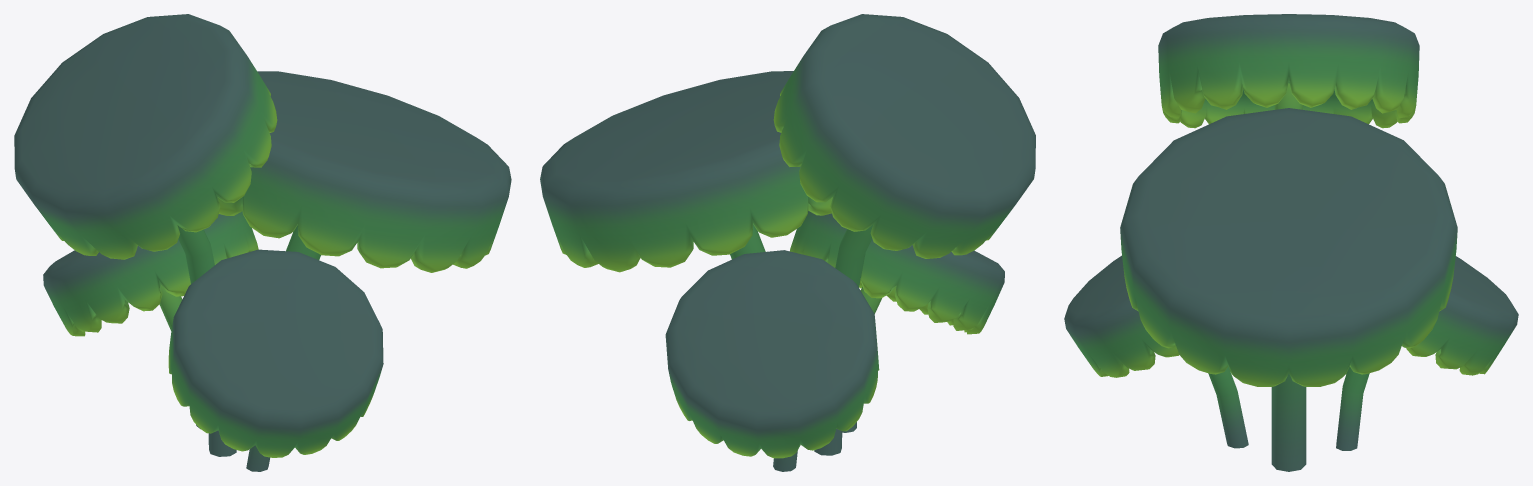
Rendered from candy-shrub-b.glb.
The picture shows the model from 3 angles, left to right: view 1: azimuth 30°, elevation 25°; view 2: azimuth 150°, elevation 25°; view 3: azimuth 270°, elevation 25°; orthographic projection.
Visible parts, largest first — view 1: Plant.034; view 2: Plant.034; view 3: Plant.034.
Boxes of the visible parts, bbox=[...] form: Plant.034: bbox=[14, 14, 511, 471]; Plant.034: bbox=[540, 14, 1035, 471]; Plant.034: bbox=[1064, 14, 1518, 471].
Size of the model in its own units: 666 by 593 by 581.
1 material, 1 textured.
